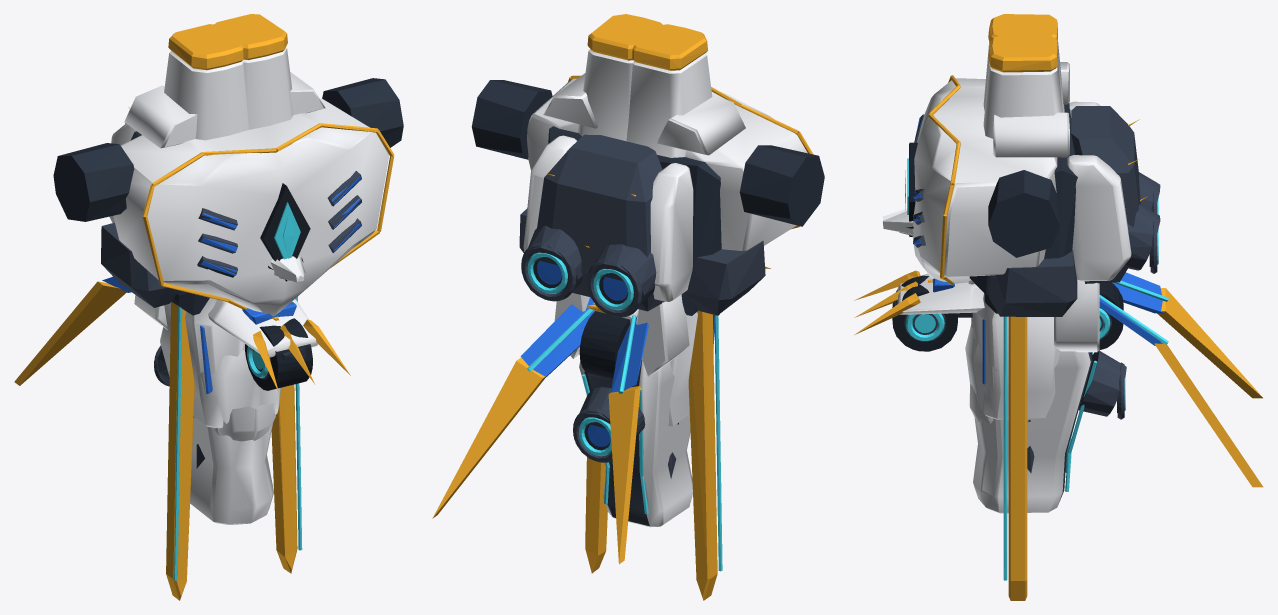
File: sunhawk-updated-lod1.glb
3 views of the same model, side by side, from view 1: azimuth 30°, elevation 25°; view 2: azimuth 150°, elevation 25°; view 3: azimuth 270°, elevation 25° (orthographic). The views are drawn at different scales.
Parts seen in each view (by area): view 1: chest_P.002, kneeL_P.002, chest_K.002, elR_T.002, towerR_P.002, chest_F.002, elL_T.002, elR_P.002, towerL_P.002, chest_T.002, wingR_T.002, towerR_T.002 (+15 smaller); view 2: chest_F.002, chest_P.002, chest_K.002, elR_T.002, towerR_P.002, kneeL_P.002, towerL_P.002, wingR_T.002, wingL_T.002, kneeL_F.002, skirtR_P.002, towerR_T.002 (+15 smaller); view 3: chest_P.002, chest_F.002, kneeR_P.002, chest_K.002, elL_T.002, elL_P.002, towerL_P.002, kneeL_P.002, skirtL_P.002, towerL_T.002, kneeL_F.002, wingR_T.002 (+13 smaller).
Boxes of the visible parts, x1=… form: chest_P.002: x1=109, y1=72, x2=389, y2=316; kneeL_P.002: x1=160, y1=327, x2=278, y2=524; chest_K.002: x1=53, y1=78, x2=403, y2=295; elR_T.002: x1=166, y1=302, x2=194, y2=600; towerR_P.002: x1=164, y1=51, x2=248, y2=140; chest_F.002: x1=101, y1=123, x2=361, y2=307; elL_T.002: x1=271, y1=384, x2=297, y2=573; elR_P.002: x1=164, y1=298, x2=243, y2=428; towerL_P.002: x1=242, y1=47, x2=292, y2=129; chest_T.002: x1=143, y1=123, x2=394, y2=320; wingR_T.002: x1=14, y1=281, x2=126, y2=385; towerR_T.002: x1=168, y1=24, x2=243, y2=70; chest_F.002: x1=519, y1=134, x2=765, y2=317; chest_P.002: x1=523, y1=73, x2=806, y2=301; chest_K.002: x1=471, y1=80, x2=824, y2=308; elR_T.002: x1=688, y1=310, x2=717, y2=600; towerR_P.002: x1=626, y1=53, x2=712, y2=157; kneeL_P.002: x1=583, y1=361, x2=692, y2=527; towerL_P.002: x1=578, y1=49, x2=633, y2=141; wingR_T.002: x1=608, y1=385, x2=640, y2=564; wingL_T.002: x1=432, y1=357, x2=544, y2=518; kneeL_F.002: x1=573, y1=360, x2=647, y2=524; skirtR_P.002: x1=636, y1=294, x2=689, y2=376; towerR_T.002: x1=632, y1=24, x2=707, y2=70; chest_P.002: x1=912, y1=62, x2=1131, y2=283; chest_F.002: x1=913, y1=106, x2=1160, y2=316; kneeR_P.002: x1=966, y1=280, x2=1090, y2=513; chest_K.002: x1=969, y1=103, x2=1150, y2=294; elL_T.002: x1=1008, y1=316, x2=1027, y2=600; elL_P.002: x1=972, y1=293, x2=1060, y2=419; towerL_P.002: x1=983, y1=62, x2=1062, y2=138; kneeL_P.002: x1=965, y1=281, x2=1064, y2=513; skirtL_P.002: x1=1054, y1=280, x2=1099, y2=352; towerL_T.002: x1=988, y1=34, x2=1057, y2=72; kneeL_F.002: x1=1065, y1=350, x2=1126, y2=453; wingR_T.002: x1=1157, y1=288, x2=1262, y2=398.
Bounding box in the file's own units: 2.88 × 4.8 × 3.32.
